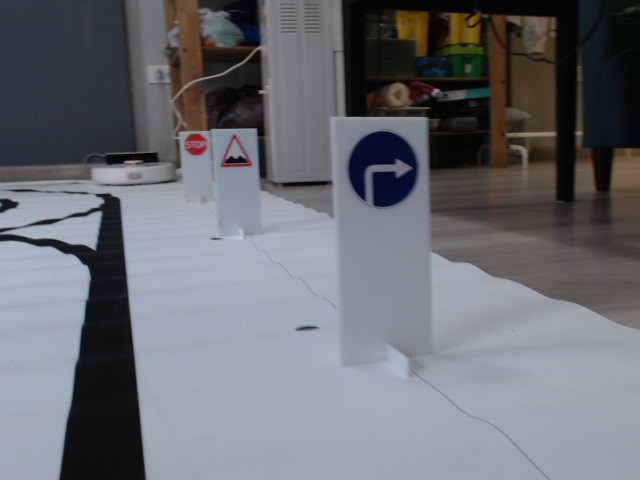Nerov: (220, 134, 253, 168)
Right: (346, 128, 420, 210)
Stop: (184, 134, 207, 155)
